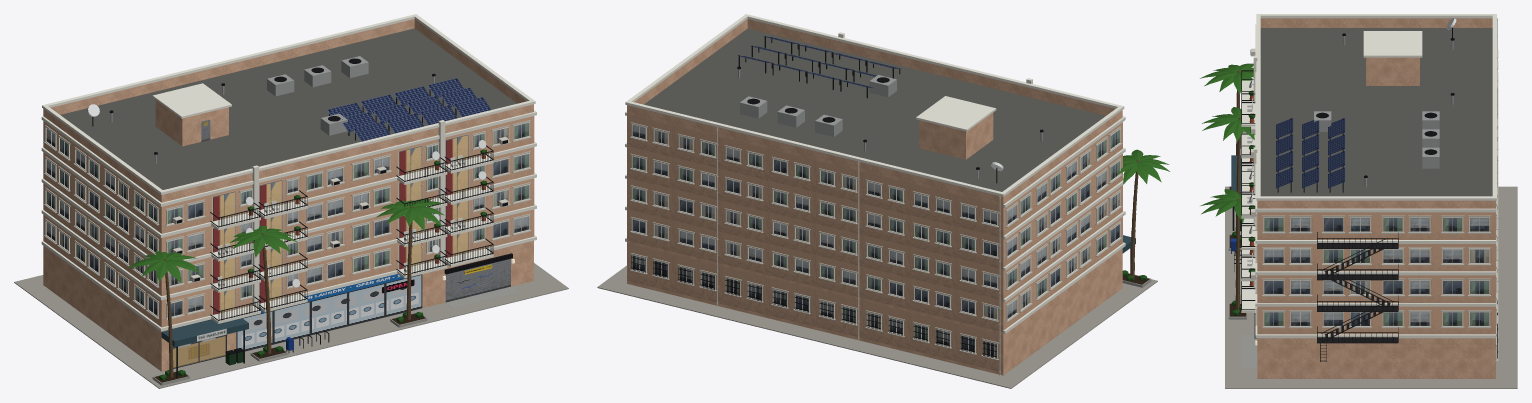
The model's file is Apartments.glb.
The picture shows the model from 3 angles, left to right: view 1: azimuth 30°, elevation 25°; view 2: azimuth 150°, elevation 25°; view 3: azimuth 270°, elevation 25°; orthographic projection.
Visible parts, largest first — view 1: Roof, Band, AptWall, AptBalcony, AptWindowA, AptWindowB, Pave, Frame, Laundromat, Rail, Solar, Sill (+19 smaller); view 2: AptBack, Roof, AptWall, Frame, Band, Sill, Pave, AptWindowB, AptWindowA, GlassE, WinIron, GlassB (+9 smaller); view 3: Roof, AptWall, Band, Pave, AptWindowB, AptWindowA, Sill, Frame, Solar, Steel, Rail, Palm (+12 smaller).
Boxes of the visible parts, x1=… form: Roof: x1=60, y1=28, x2=516, y2=189; Band: x1=41, y1=14, x2=536, y2=331; AptWall: x1=43, y1=19, x2=533, y2=371; AptBalcony: x1=208, y1=127, x2=487, y2=315; AptWindowA: x1=43, y1=121, x2=534, y2=326; AptWindowB: x1=43, y1=116, x2=534, y2=327; Pave: x1=14, y1=263, x2=568, y2=388; Frame: x1=45, y1=121, x2=529, y2=318; Laundromat: x1=236, y1=274, x2=422, y2=351; Rail: x1=210, y1=145, x2=493, y2=321; Solar: x1=327, y1=78, x2=491, y2=141; Sill: x1=44, y1=120, x2=531, y2=320; AptBack: x1=627, y1=114, x2=1003, y2=372; Roof: x1=644, y1=28, x2=1105, y2=191; AptWall: x1=627, y1=19, x2=1122, y2=375; Frame: x1=631, y1=124, x2=1120, y2=358; Band: x1=625, y1=14, x2=1125, y2=333; Sill: x1=630, y1=122, x2=1122, y2=360; Pave: x1=597, y1=265, x2=1157, y2=388; AptWindowB: x1=1003, y1=122, x2=1122, y2=330; AptWindowA: x1=1003, y1=144, x2=1122, y2=308; GlassE: x1=654, y1=130, x2=1119, y2=357; WinIron: x1=631, y1=255, x2=996, y2=358; GlassB: x1=632, y1=140, x2=1119, y2=296; Roof: x1=1260, y1=28, x2=1492, y2=196; AptWall: x1=1257, y1=18, x2=1495, y2=378; Band: x1=1241, y1=14, x2=1496, y2=338; Pave: x1=1225, y1=186, x2=1517, y2=388; AptWindowB: x1=1257, y1=212, x2=1495, y2=334; AptWindowA: x1=1257, y1=212, x2=1495, y2=334; Sill: x1=1255, y1=49, x2=1498, y2=361; Frame: x1=1256, y1=205, x2=1496, y2=360; Solar: x1=1276, y1=118, x2=1345, y2=188; Steel: x1=1232, y1=27, x2=1452, y2=361; Rail: x1=1241, y1=70, x2=1398, y2=342; Palm: x1=1200, y1=63, x2=1254, y2=222.
Size of the model in its own units: 166 by 73.74 by 106.
40 materials, 40 textured.
